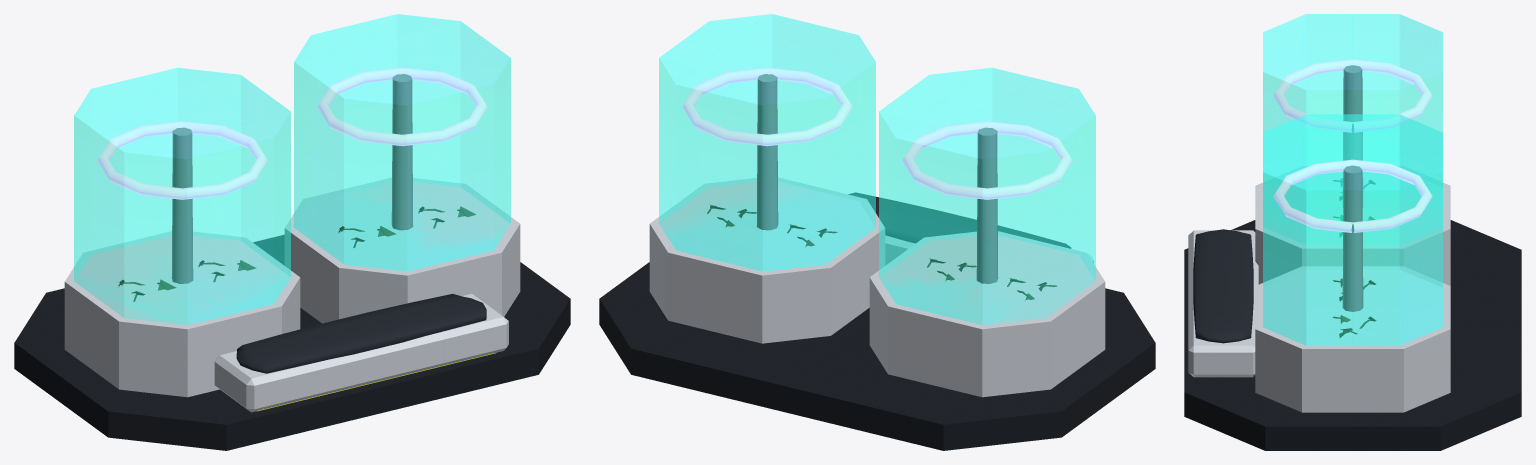
Rendered from prop_04_r1_03.glb.
3 views of the same model, side by side, from view 1: azimuth 30°, elevation 25°; view 2: azimuth 150°, elevation 25°; view 3: azimuth 270°, elevation 25° (orthographic). The views are drawn at different scales.
Parts seen in each view (by area): view 1: Prop04_C03_glass_emerald, Prop04_C03_aero_white, Prop04_C03_gunmetal, Prop04_C03_pad_charcoal, Prop04_C03_led_uv, Prop04_C03_steel_machined, Prop04_C03_foliage; view 2: Prop04_C03_glass_emerald, Prop04_C03_aero_white, Prop04_C03_gunmetal, Prop04_C03_led_uv, Prop04_C03_steel_machined, Prop04_C03_pad_charcoal, Prop04_C03_foliage; view 3: Prop04_C03_glass_emerald, Prop04_C03_aero_white, Prop04_C03_gunmetal, Prop04_C03_led_uv, Prop04_C03_pad_charcoal, Prop04_C03_steel_machined, Prop04_C03_foliage.
Boxes of the visible parts, box(x1,y1,x2,y2) form: Prop04_C03_glass_emerald: box(74, 14, 510, 325); Prop04_C03_aero_white: box(64, 177, 520, 412); Prop04_C03_gunmetal: box(14, 235, 570, 450); Prop04_C03_pad_charcoal: box(236, 293, 486, 373); Prop04_C03_led_uv: box(97, 67, 487, 199); Prop04_C03_steel_machined: box(171, 74, 413, 283); Prop04_C03_foliage: box(118, 206, 475, 301); Prop04_C03_glass_emerald: box(659, 14, 1095, 325); Prop04_C03_aero_white: box(649, 177, 1105, 397); Prop04_C03_gunmetal: box(599, 262, 1155, 450); Prop04_C03_led_uv: box(682, 67, 1072, 199); Prop04_C03_steel_machined: box(756, 74, 998, 283); Prop04_C03_pad_charcoal: box(848, 192, 1071, 248); Prop04_C03_foliage: box(707, 204, 1057, 300); Prop04_C03_glass_emerald: box(1263, 14, 1442, 345); Prop04_C03_aero_white: box(1188, 166, 1450, 412); Prop04_C03_gunmetal: box(1184, 220, 1521, 450); Prop04_C03_led_uv: box(1273, 59, 1432, 232); Prop04_C03_pad_charcoal: box(1193, 229, 1253, 343); Prop04_C03_steel_machined: box(1342, 65, 1363, 311); Prop04_C03_foliage: box(1332, 178, 1376, 337).
Bounding box in the file's own units: 3.7 × 1.99 × 2.5.
9 materials, 9 textured.
